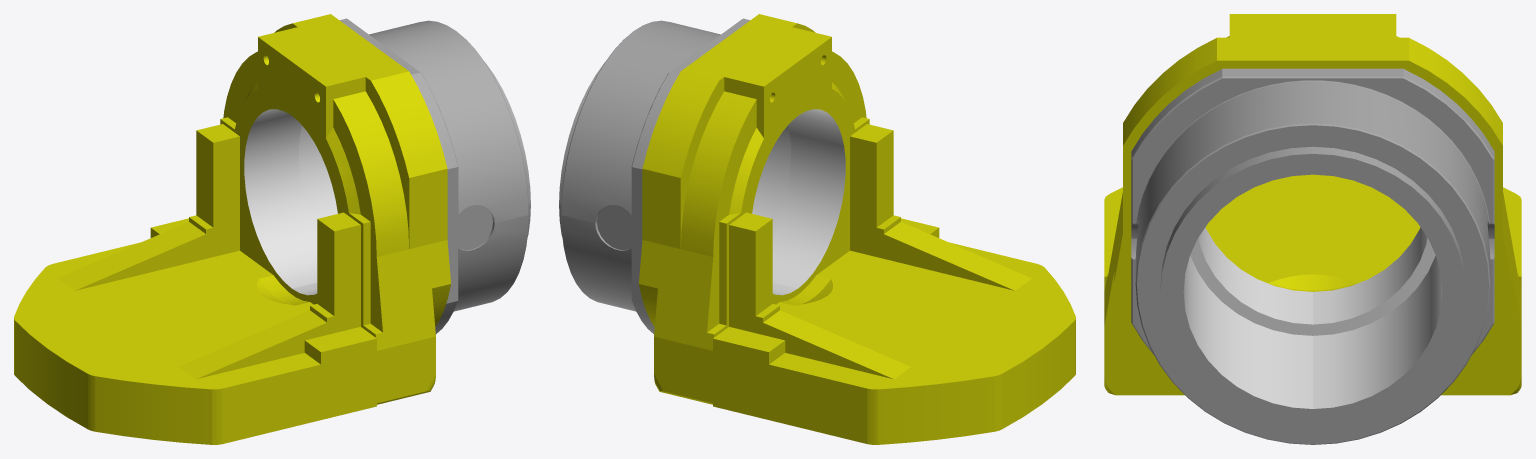
3 views of the same model, side by side, from view 1: azimuth 30°, elevation 25°; view 2: azimuth 150°, elevation 25°; view 3: azimuth 270°, elevation 25° (orthographic). The views are drawn at different scales.
Visible parts, largest first — view 1: Mesh_0; view 2: Mesh_0; view 3: Mesh_0.
Part boxes in pixels (x1,y1,x2,y2): Mesh_0: (14, 14, 530, 444); Mesh_0: (559, 14, 1075, 444); Mesh_0: (1104, 14, 1521, 444).
Size of the model in its own units: 0.143 by 0.102 by 0.1.
